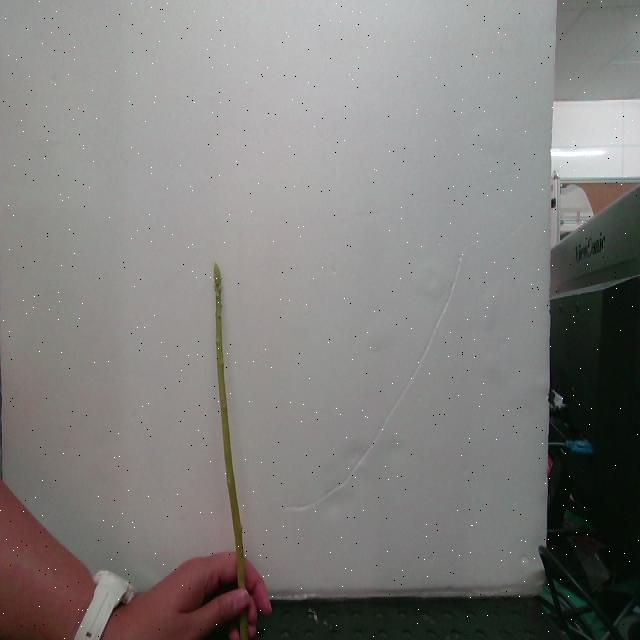aspargus: (215, 266, 249, 592)
